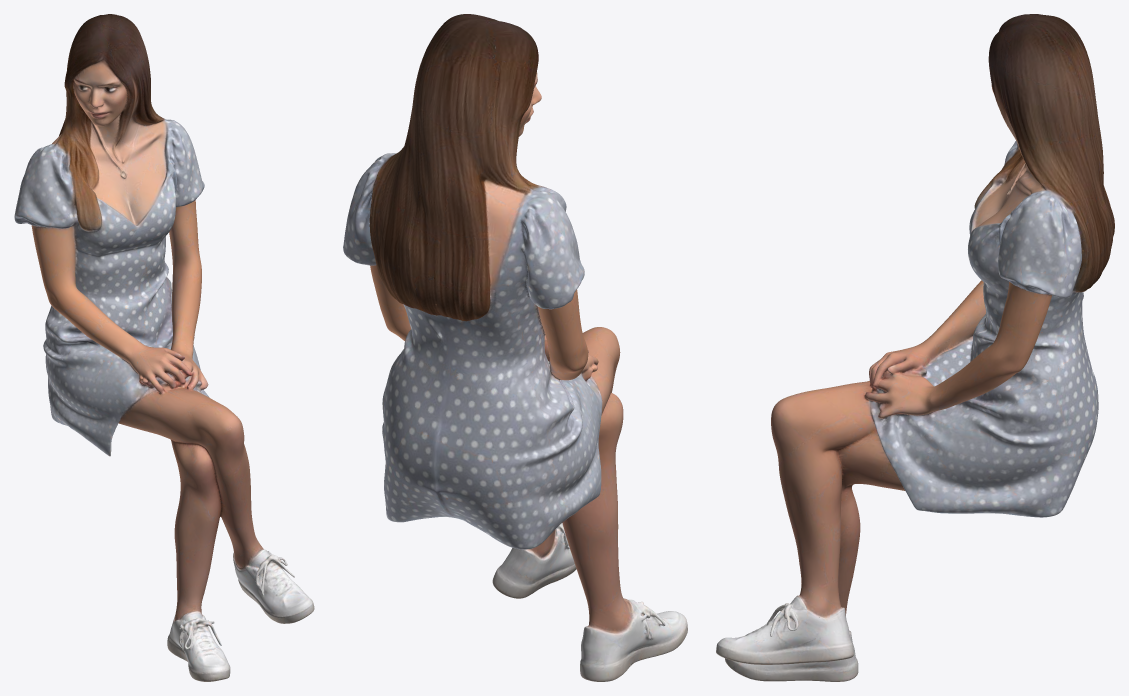
File: sitPolka.glb
The picture shows the model from 3 angles, left to right: view 1: azimuth 30°, elevation 25°; view 2: azimuth 150°, elevation 25°; view 3: azimuth 270°, elevation 25°; orthographic projection. The views are drawn at different scales.
Visible parts, largest first — view 1: Object_5, Object_6, Object_7; view 2: Object_6, Object_5, Object_7; view 3: Object_6, Object_5, Object_7.
Part boxes in pixels (box(x1,y1,x2,y2)): Object_5: box(66, 77, 314, 681); Object_6: box(14, 14, 204, 433); Object_7: box(45, 45, 200, 428); Object_6: box(343, 14, 595, 549); Object_5: box(492, 327, 687, 681); Object_7: box(531, 58, 590, 520); Object_6: box(950, 14, 1114, 517); Object_5: box(716, 65, 1008, 681); Object_7: box(937, 29, 1021, 513).
Bounding box in the file's own units: 0.6305 × 1.9 × 1.04.
Materials: 1 (1 with a texture image).
